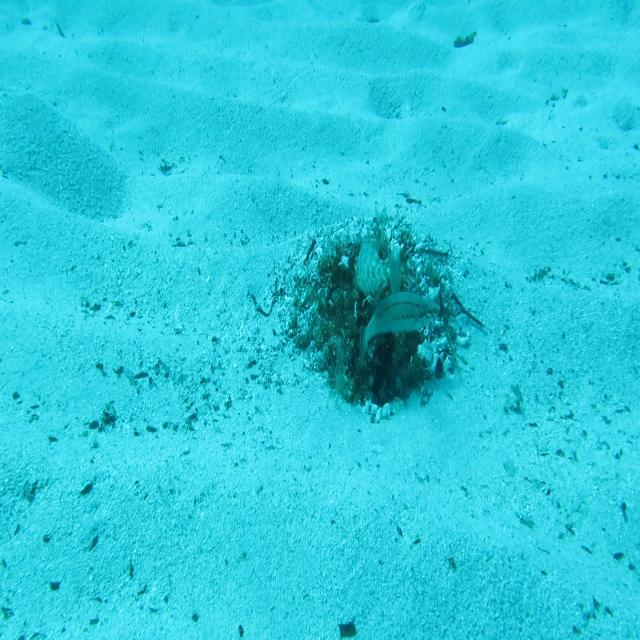vegetation: (453, 28, 479, 51), (338, 620, 359, 640)
